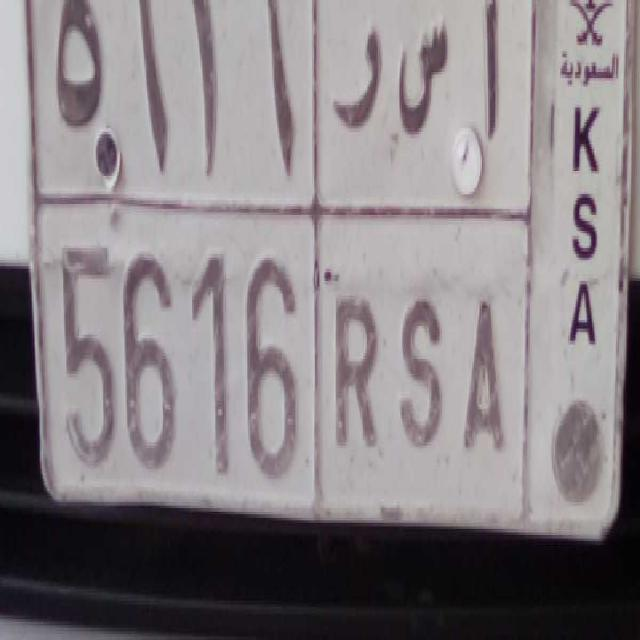license_plate: (47, 189, 524, 542)
